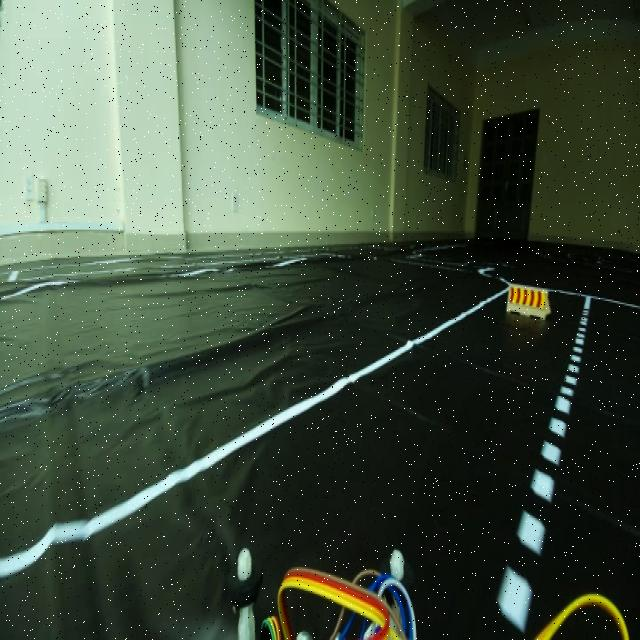roadblock: (503, 280, 552, 324)
